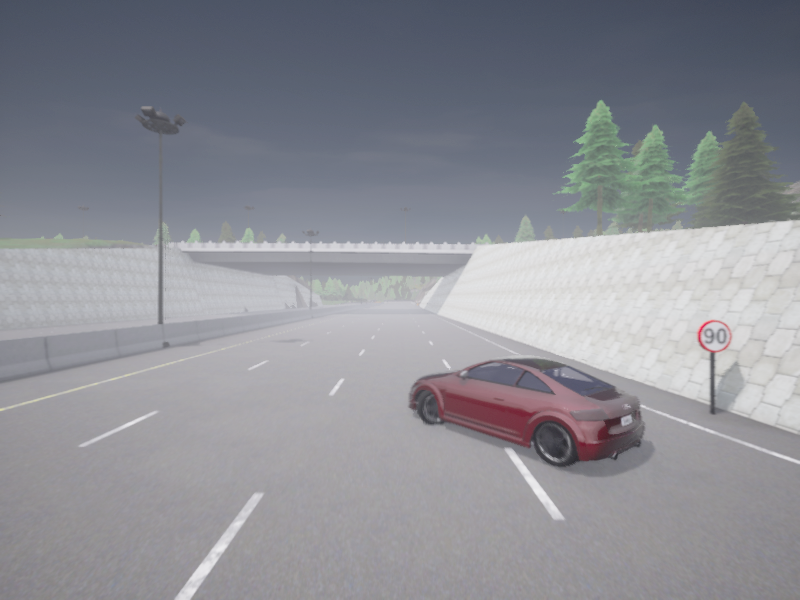vehicle: (407, 355, 643, 467)
